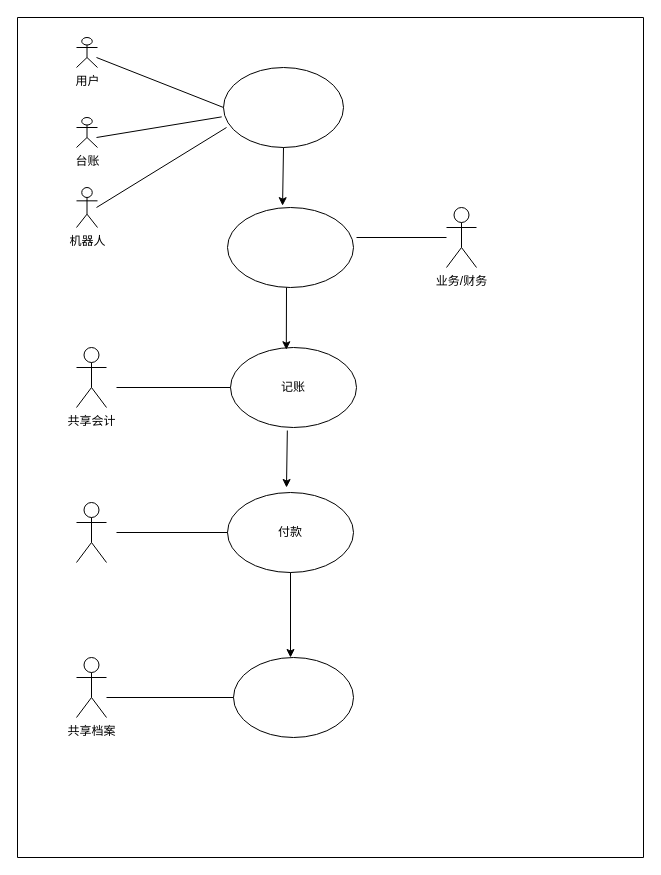
Image size: 661x875. Some labels were removed from this diagram. Each missing label, with the box of its shape:
共享资金: (76, 502, 106, 562)
填单: (222, 66, 344, 148)
审批: (226, 206, 354, 288)
归档: (232, 656, 354, 738)
